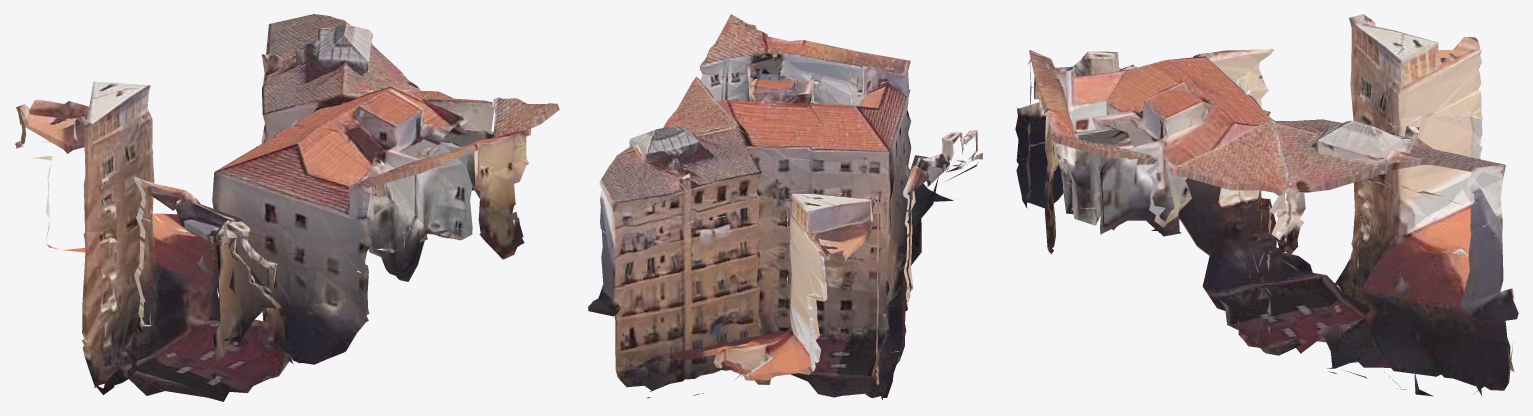
3 renders of one model, left to right at view 1: azimuth 30°, elevation 25°; view 2: azimuth 150°, elevation 25°; view 3: azimuth 270°, elevation 25°, orthographic. The views are drawn at different scales.
Visible parts, largest first — view 1: Mesh_0; view 2: Mesh_0; view 3: Mesh_0.
Boxes of the visible parts, bbox=[...] form: Mesh_0: bbox=[15, 14, 559, 401]; Mesh_0: bbox=[588, 14, 982, 399]; Mesh_0: bbox=[1015, 14, 1518, 396].
Bounding box in the file's own units: 33.45 × 28.75 × 41.5.
1 material, 1 textured.
